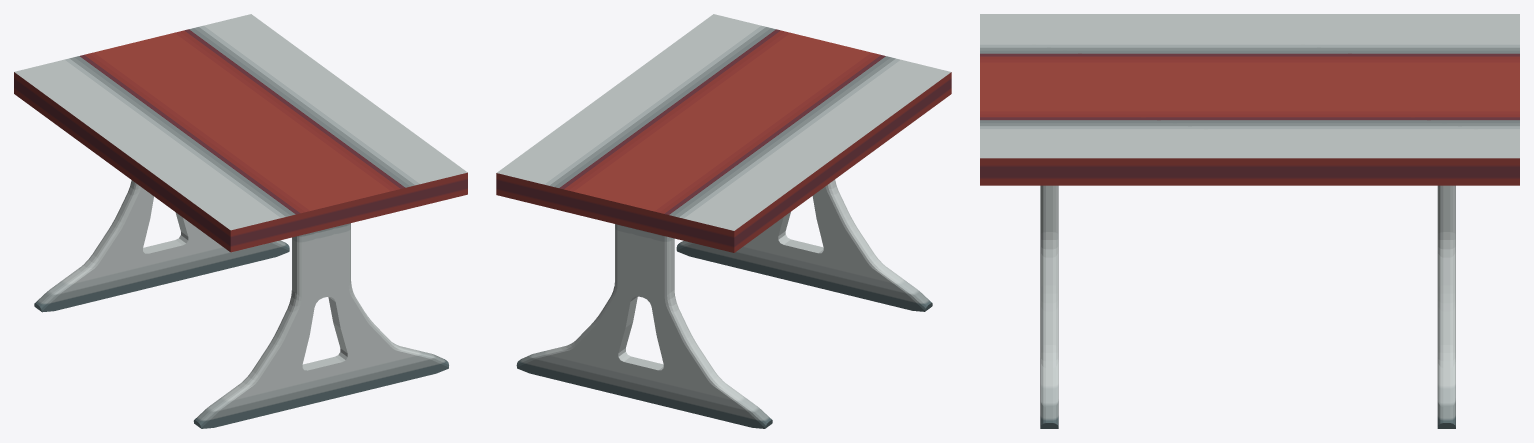
Rendered from Mesa Grandeprontacomtxt.fbx.
3 views of the same model, side by side, from view 1: azimuth 30°, elevation 25°; view 2: azimuth 150°, elevation 25°; view 3: azimuth 270°, elevation 25° (orthographic). The views are drawn at different scales.
Parts seen in each view (by area): view 1: Cube.001, Cube; view 2: Cube.001, Cube; view 3: Cube.001, Cube.
Boxes of the visible parts, x1=… form: Cube.001: x1=14, y1=14, x2=467, y2=252; Cube: x1=34, y1=180, x2=448, y2=428; Cube.001: x1=496, y1=14, x2=951, y2=252; Cube: x1=516, y1=179, x2=932, y2=428; Cube.001: x1=980, y1=14, x2=1519, y2=185; Cube: x1=1040, y1=185, x2=1455, y2=428.
Size of the model in its own units: 641 by 532 by 964.
Materials: 1 (1 with a texture image).
